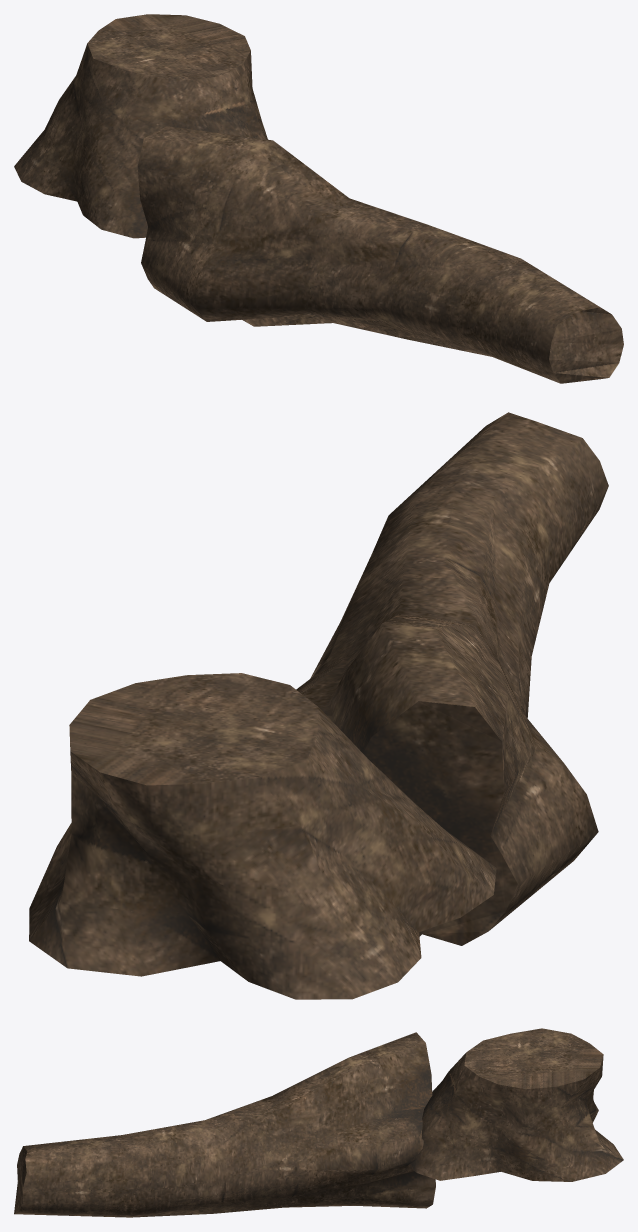
Rendered from Arbol.obj.
3 renders of one model, top to bottom at view 1: azimuth 30°, elevation 25°; view 2: azimuth 150°, elevation 25°; view 3: azimuth 270°, elevation 25°, orthographic. The views are drawn at different scales.
Visible parts, largest first — view 1: Foliage007; view 2: Foliage007; view 3: Foliage007.
Part boxes in pixels (x1,y1,x2,y2): Foliage007: [14, 14, 623, 383]; Foliage007: [29, 412, 608, 999]; Foliage007: [14, 1028, 623, 1217].
Bounding box in the file's own units: 43.48 × 28.57 × 101.
1 material, 1 textured.
